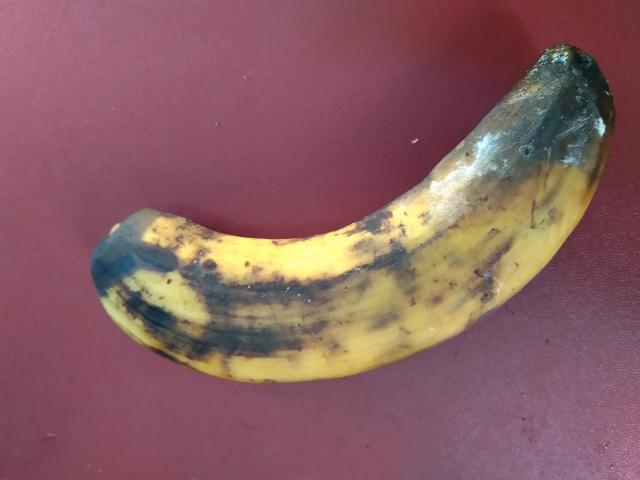rotten: (70, 34, 624, 388)
